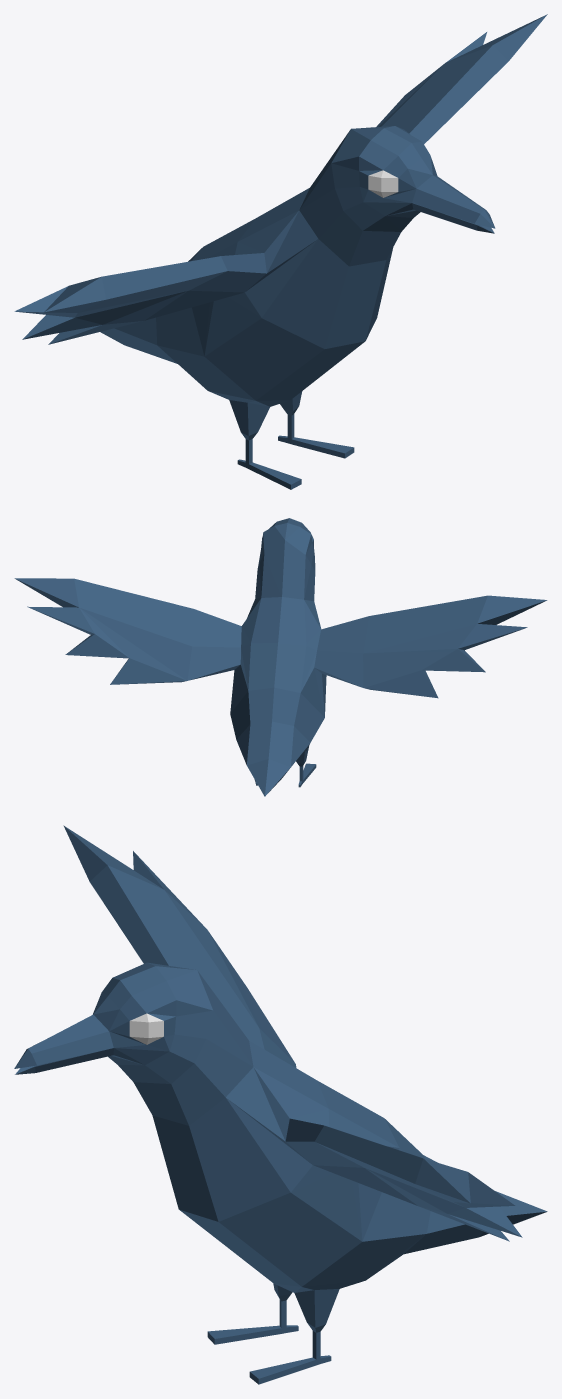
File: ToyObject_099.fbx
3 views of the same model, one above another, from view 1: azimuth 30°, elevation 25°; view 2: azimuth 150°, elevation 25°; view 3: azimuth 270°, elevation 25° (orthographic). The views are drawn at different scales.
Parts seen in each view (by area): view 1: Object.057; view 2: Object.057; view 3: Object.057.
Boxes of the visible parts, bbox=[...] form: Object.057: bbox=[14, 14, 547, 489]; Object.057: bbox=[14, 518, 547, 796]; Object.057: bbox=[14, 825, 547, 1384].
Bounding box in the file's own units: 0.2866 × 0.1448 × 0.171.
